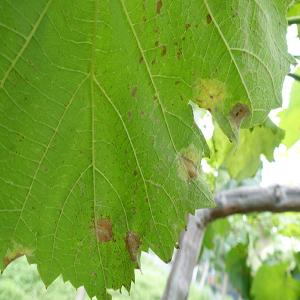Folha: (0, 0, 296, 298)
Fungo: (191, 74, 251, 154), (194, 75, 228, 113), (228, 100, 250, 154), (0, 240, 32, 274), (124, 229, 142, 270), (176, 152, 198, 184), (95, 214, 115, 244), (130, 84, 138, 98), (156, 0, 162, 14), (137, 55, 143, 68), (160, 44, 166, 56), (176, 47, 182, 59), (206, 13, 212, 23), (126, 110, 132, 120), (185, 22, 191, 30), (150, 58, 156, 65), (152, 93, 157, 101), (142, 0, 146, 10), (133, 168, 137, 176), (179, 93, 183, 101), (174, 79, 180, 84), (154, 25, 158, 32), (142, 15, 146, 22), (154, 40, 158, 46), (140, 110, 144, 116), (174, 41, 178, 46), (181, 36, 185, 40)
